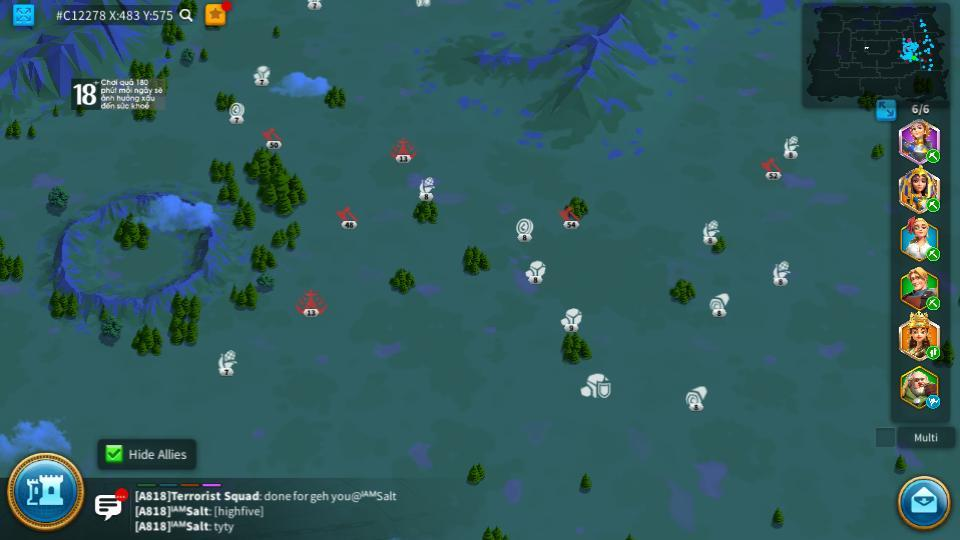gem-z-out: (305, 0, 323, 8), (412, 0, 431, 6)
march_idle: (925, 396, 942, 408)
march_marching: (925, 196, 941, 211), (926, 345, 941, 359), (925, 150, 942, 162), (925, 248, 941, 260), (925, 297, 942, 308)
